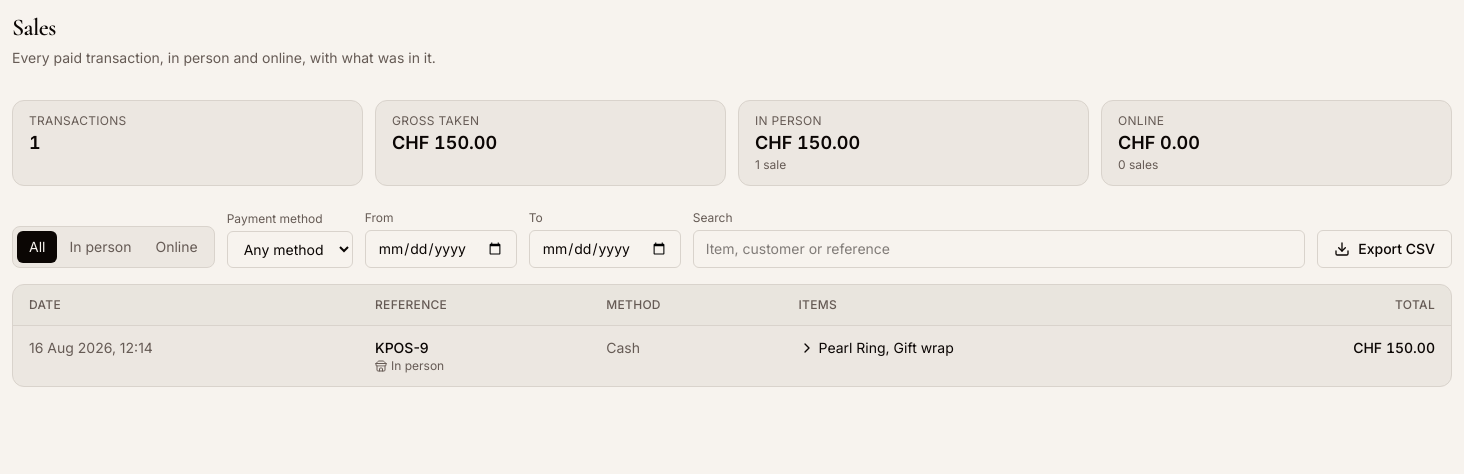
Sales page › expands a row to the per-item prices
Click the button "Pearl Ring, Gift wrap".
click(876, 348)  # box [798,338,954,358]
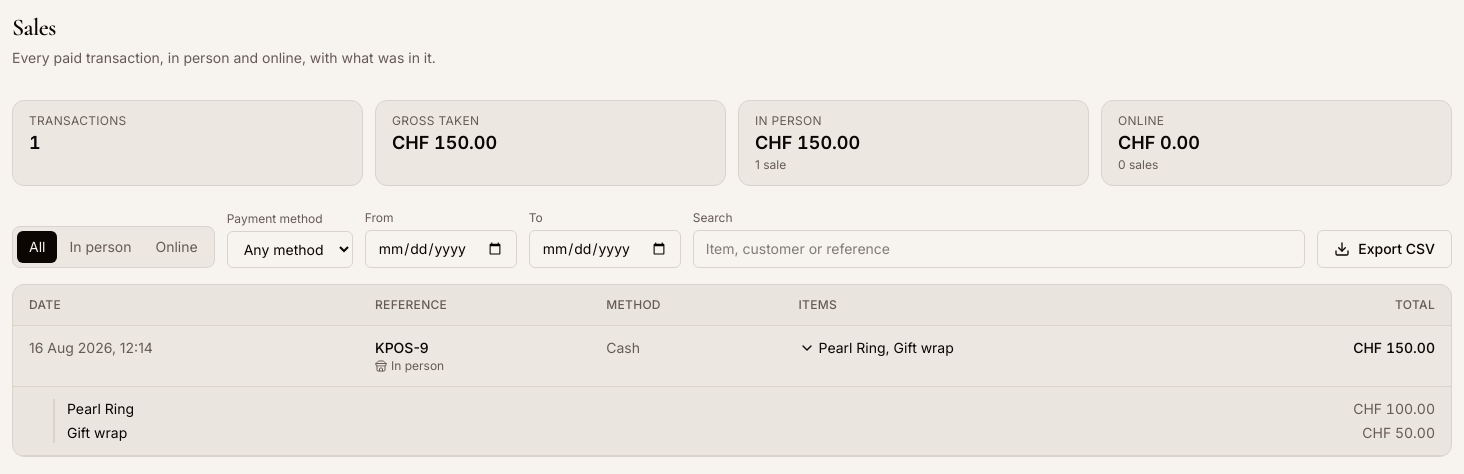
Expected: the button "Pearl Ring, Gift wrap" is expanded
Expected: the text "CHF 100.00" is shown, [1353,399,1435,419]
Expected: the text "CHF 50.00" is shown, [1362,423,1435,443]
Click the button "Pearl Ring, Gift wrap".
click(876, 348)  # box [798,338,954,358]
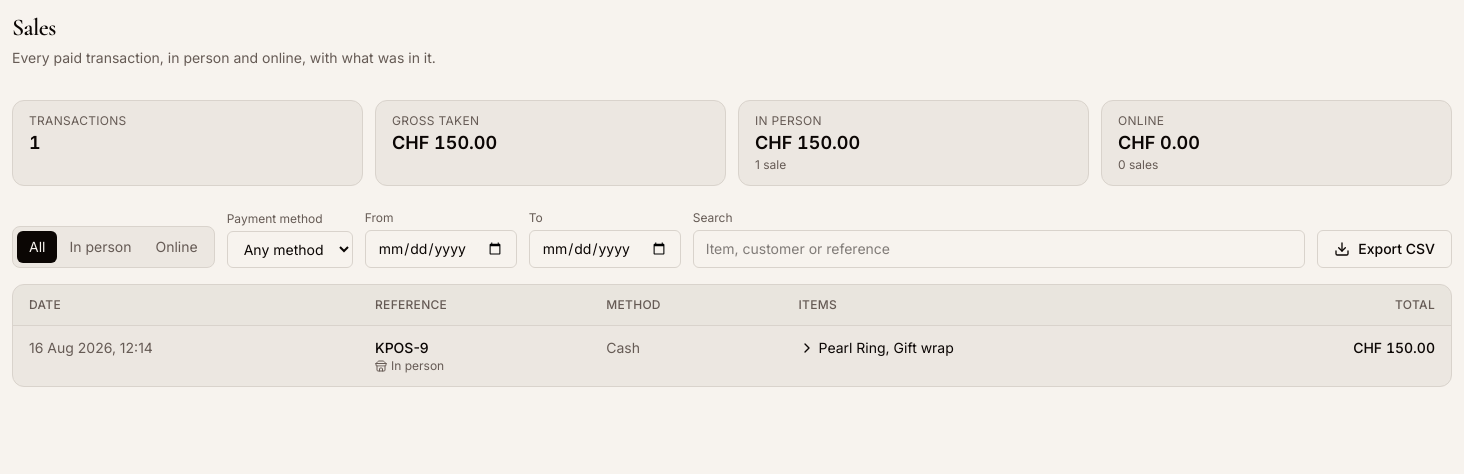
Expected: the list is gone
